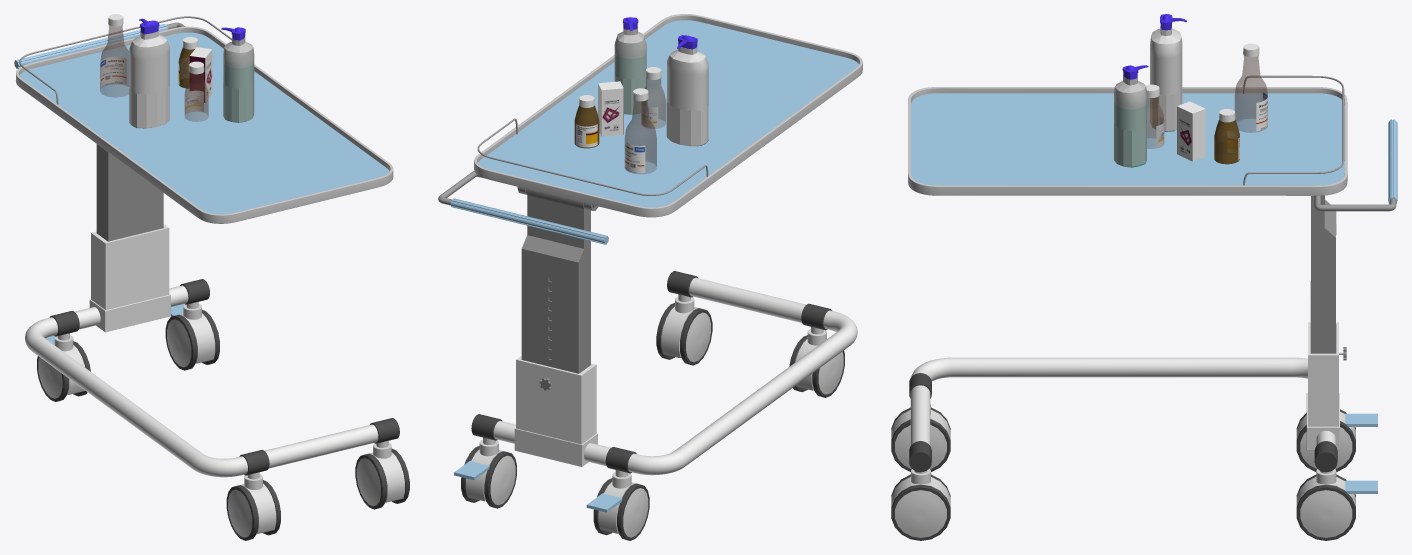
Rendered from bedsideTable.fbx.
3 renders of one model, left to right at view 1: azimuth 30°, elevation 25°; view 2: azimuth 150°, elevation 25°; view 3: azimuth 270°, elevation 25°, orthographic. The views are drawn at different scales.
Parts seen in each view (by area): view 1: Bedside_table_blat003; view 2: Bedside_table_blat003; view 3: Bedside_table_blat003.
Part boxes in pixels (<box>): Bedside_table_blat003: <box>14,14,409,540</box>; Bedside_table_blat003: <box>438,14,862,540</box>; Bedside_table_blat003: <box>891,14,1397,540</box>.
Bounding box in the file's own units: 49 × 102 × 102.
